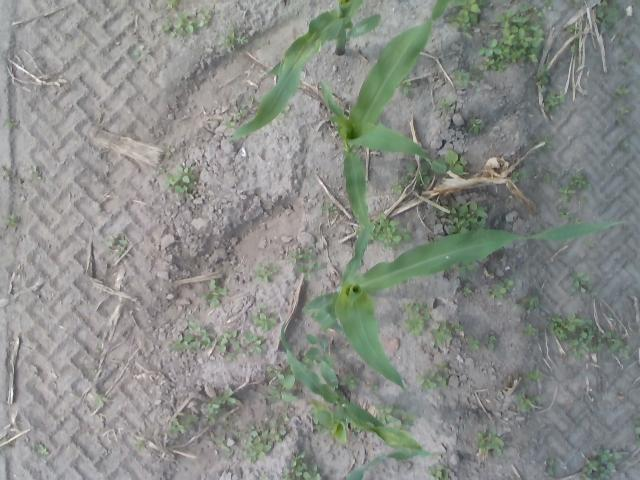Maize: (301, 219, 628, 390), (318, 1, 448, 230), (231, 0, 380, 138), (280, 322, 424, 453), (341, 450, 444, 479)
Weeds: (478, 10, 544, 72), (567, 318, 630, 356), (242, 421, 286, 462), (438, 202, 488, 228), (200, 388, 237, 422), (282, 450, 322, 480), (449, 0, 485, 27), (169, 330, 211, 352), (373, 222, 411, 246), (431, 150, 466, 176), (162, 12, 199, 36), (267, 374, 295, 401), (292, 260, 322, 282), (596, 1, 616, 33), (374, 403, 401, 426), (206, 278, 227, 306), (305, 332, 329, 356), (406, 161, 430, 185), (430, 320, 451, 346), (216, 329, 240, 351), (487, 428, 504, 456), (254, 313, 277, 332), (338, 372, 359, 392), (406, 301, 430, 318), (549, 316, 567, 338), (414, 370, 436, 388), (404, 317, 424, 336), (176, 164, 195, 183), (212, 434, 232, 452), (544, 93, 565, 110), (106, 234, 128, 248), (518, 394, 534, 412), (180, 413, 198, 429), (164, 172, 182, 188), (573, 271, 588, 290), (557, 188, 576, 202), (198, 9, 212, 28), (223, 30, 235, 52), (256, 264, 271, 281), (266, 366, 285, 379), (609, 450, 621, 470), (168, 419, 184, 434), (466, 119, 482, 134), (427, 464, 443, 478), (570, 174, 586, 188), (188, 320, 206, 332), (567, 314, 580, 330), (91, 395, 108, 407), (489, 286, 506, 298), (380, 214, 398, 225), (524, 296, 538, 310), (584, 459, 598, 473), (249, 338, 261, 354), (4, 216, 20, 228), (466, 336, 479, 350), (478, 433, 492, 446), (451, 323, 464, 337), (235, 105, 248, 119), (540, 63, 550, 81), (325, 202, 340, 214), (220, 117, 237, 127), (598, 448, 610, 462), (289, 249, 301, 263), (438, 97, 452, 109), (252, 304, 267, 315), (523, 322, 534, 336), (244, 331, 258, 342), (486, 335, 495, 352), (401, 81, 411, 96), (600, 465, 610, 479), (165, 0, 180, 9), (135, 440, 147, 451), (392, 182, 403, 194), (526, 371, 540, 380), (616, 86, 630, 95), (6, 120, 20, 129), (456, 69, 467, 80), (504, 278, 514, 290), (302, 248, 312, 260), (402, 412, 416, 420), (174, 184, 188, 192), (570, 39, 578, 53), (39, 444, 50, 454), (437, 376, 448, 386), (166, 146, 176, 157), (226, 352, 238, 361), (236, 35, 248, 44), (518, 4, 536, 10), (566, 24, 579, 32), (368, 384, 378, 394), (436, 362, 446, 372), (154, 166, 164, 176), (547, 460, 554, 474), (544, 171, 552, 183), (0, 166, 8, 178), (617, 106, 629, 114), (462, 287, 472, 296), (558, 212, 570, 219), (512, 172, 520, 181), (620, 58, 626, 70), (29, 166, 38, 172), (586, 240, 595, 246), (545, 0, 554, 6), (620, 140, 629, 146), (544, 138, 552, 144), (139, 46, 145, 52), (574, 218, 580, 223)
